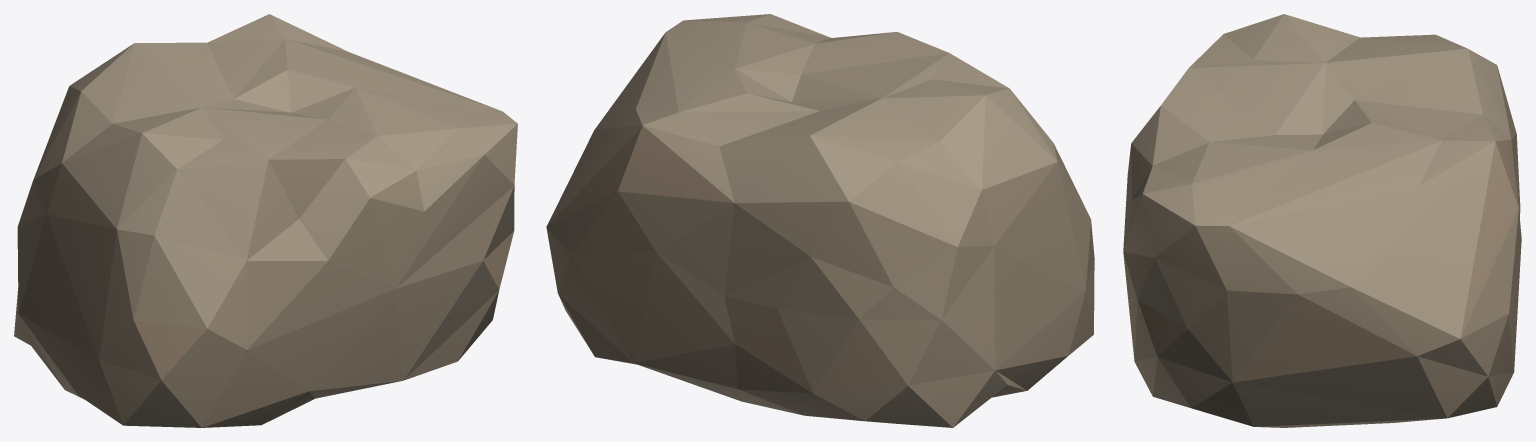
Rendered from coast_scatter_b.glb.
3 renders of one model, left to right at view 1: azimuth 30°, elevation 25°; view 2: azimuth 150°, elevation 25°; view 3: azimuth 270°, elevation 25°, orthographic. The views are drawn at different scales.
Parts seen in each view (by area): view 1: coast_scatter_b; view 2: coast_scatter_b; view 3: coast_scatter_b.
Part boxes in pixels (bbox=[...]): coast_scatter_b: bbox=[14, 14, 517, 427]; coast_scatter_b: bbox=[546, 14, 1094, 427]; coast_scatter_b: bbox=[1123, 14, 1521, 427].
Bounding box in the file's own units: 1.4 × 0.85 × 1.1.
